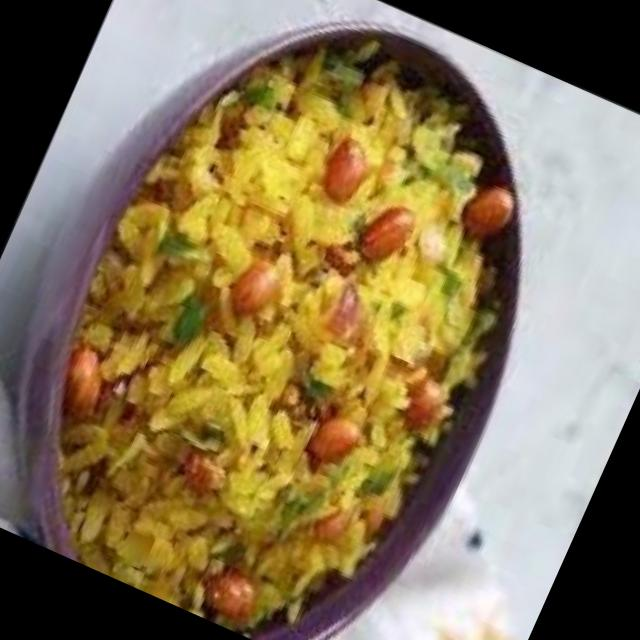poha: (0, 0, 587, 640)
